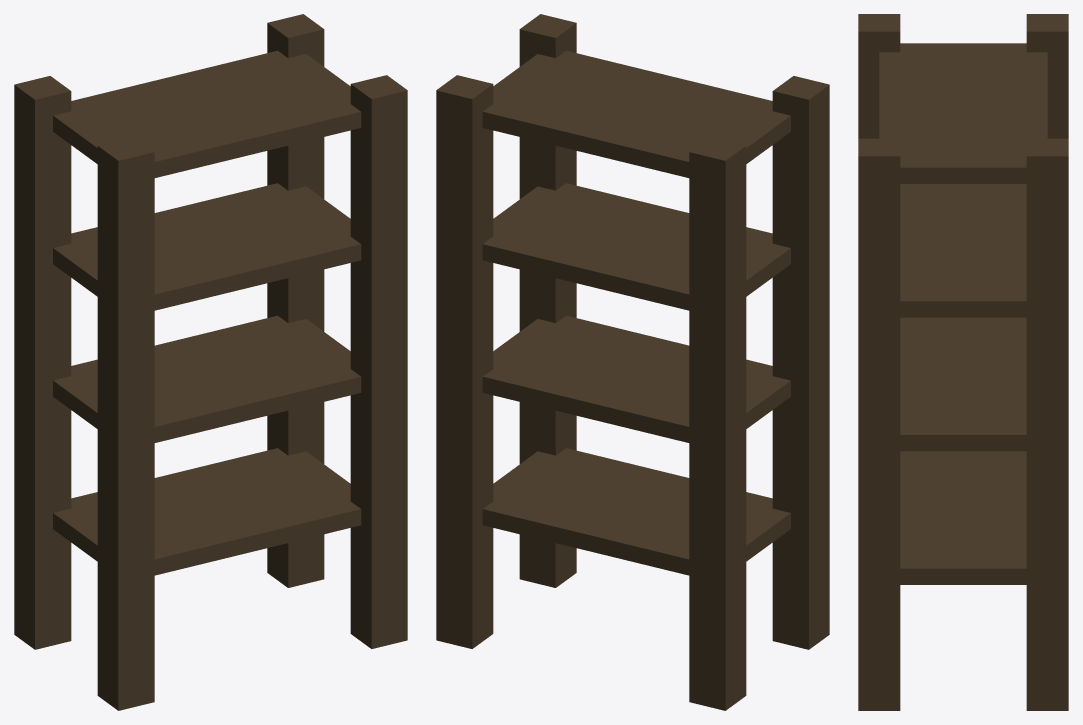
The model's file is PS_Shelf01.fbx.
The picture shows the model from 3 angles, left to right: view 1: azimuth 30°, elevation 25°; view 2: azimuth 150°, elevation 25°; view 3: azimuth 270°, elevation 25°; orthographic projection.
Parts seen in each view (by area): view 1: PS_Shelf01; view 2: PS_Shelf01; view 3: PS_Shelf01.
Part boxes in pixels (left/top/right/bottom): PS_Shelf01: left=14, top=14, right=407, bottom=710; PS_Shelf01: left=436, top=14, right=829, bottom=710; PS_Shelf01: left=858, top=14, right=1068, bottom=710.
Bounding box in the file's own units: 1.14 × 2.08 × 0.7138.
